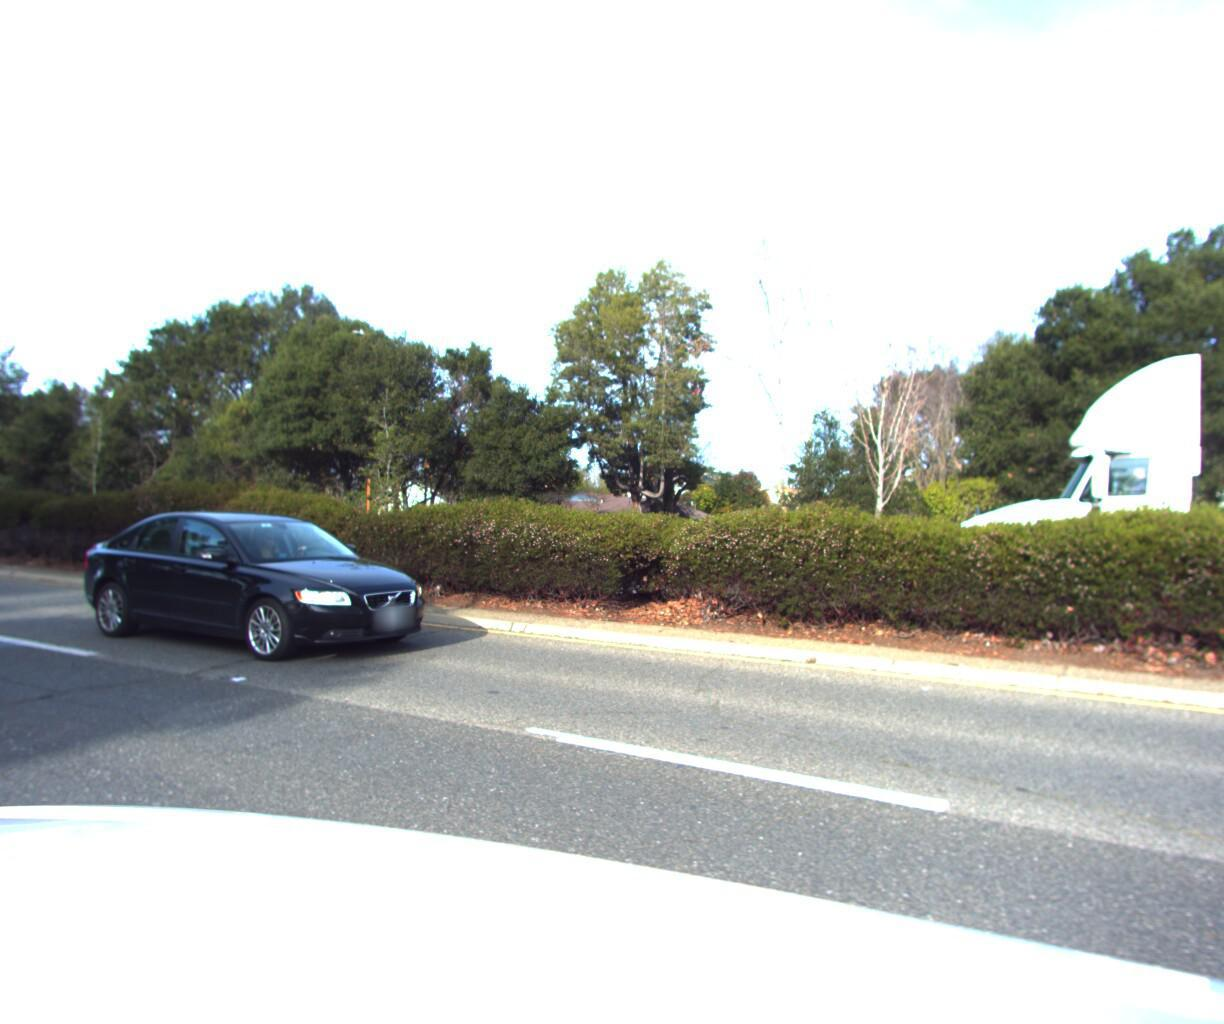car: (68, 504, 453, 671)
truck: (944, 240, 1224, 737)
